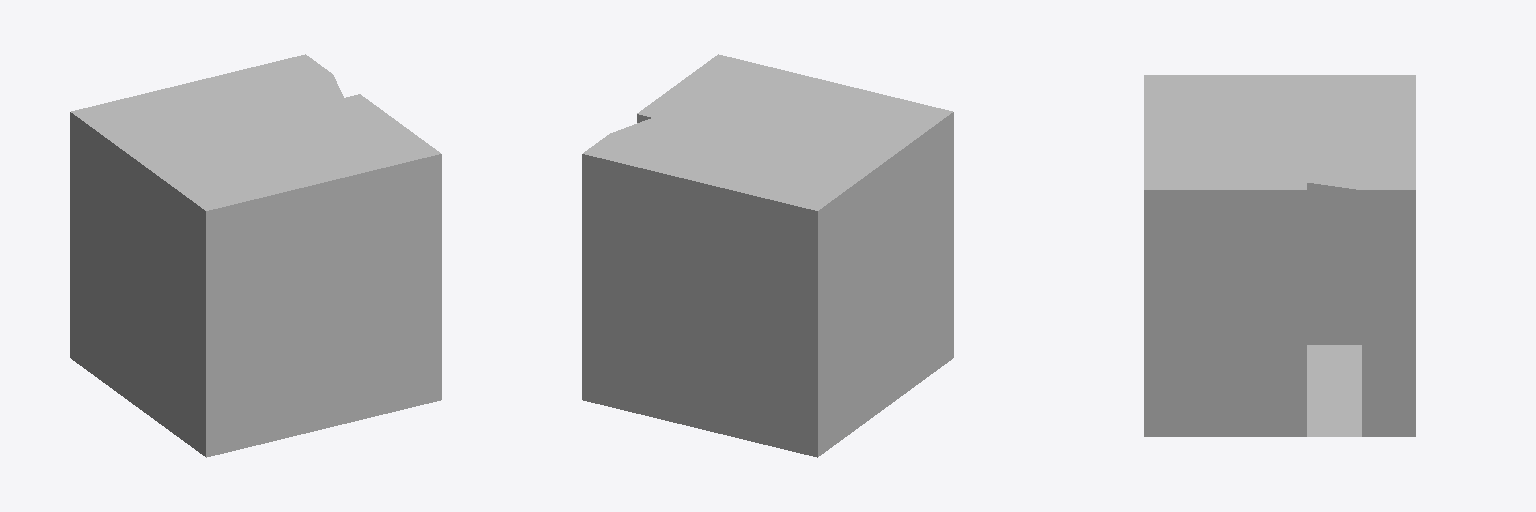
3 views of the same model, side by side, from view 1: azimuth 30°, elevation 25°; view 2: azimuth 150°, elevation 25°; view 3: azimuth 270°, elevation 25° (orthographic).
Parts seen in each view (by area): view 1: gestalt_cube_cut_1_2; view 2: gestalt_cube_cut_1_2; view 3: gestalt_cube_cut_1_2.
Boxes of the visible parts, x1=… form: gestalt_cube_cut_1_2: x1=70, y1=54, x2=441, y2=457; gestalt_cube_cut_1_2: x1=582, y1=54, x2=953, y2=457; gestalt_cube_cut_1_2: x1=1144, y1=75, x2=1415, y2=436.
Size of the model in its own units: 45.29 by 45.3 by 45.29.